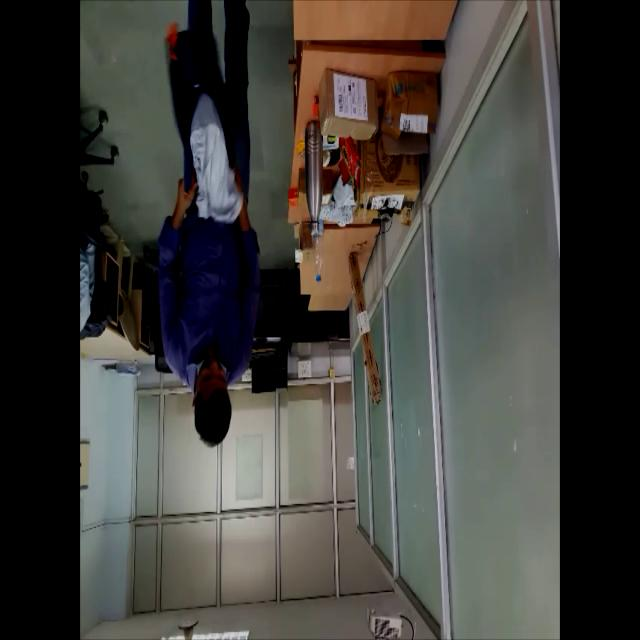shoplifting: (154, 2, 266, 454)
